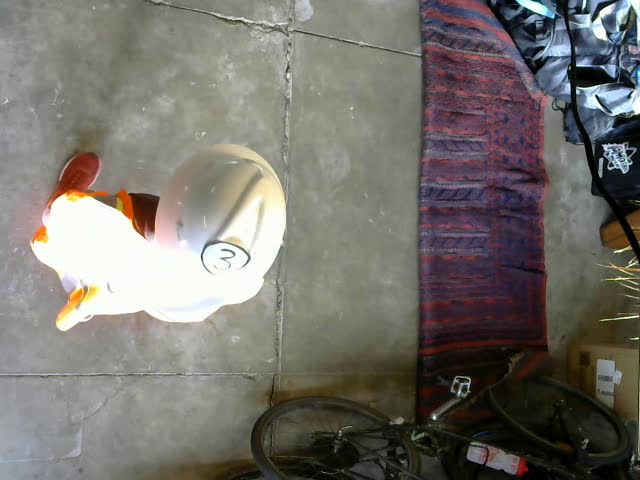three: (201, 241, 252, 277)
